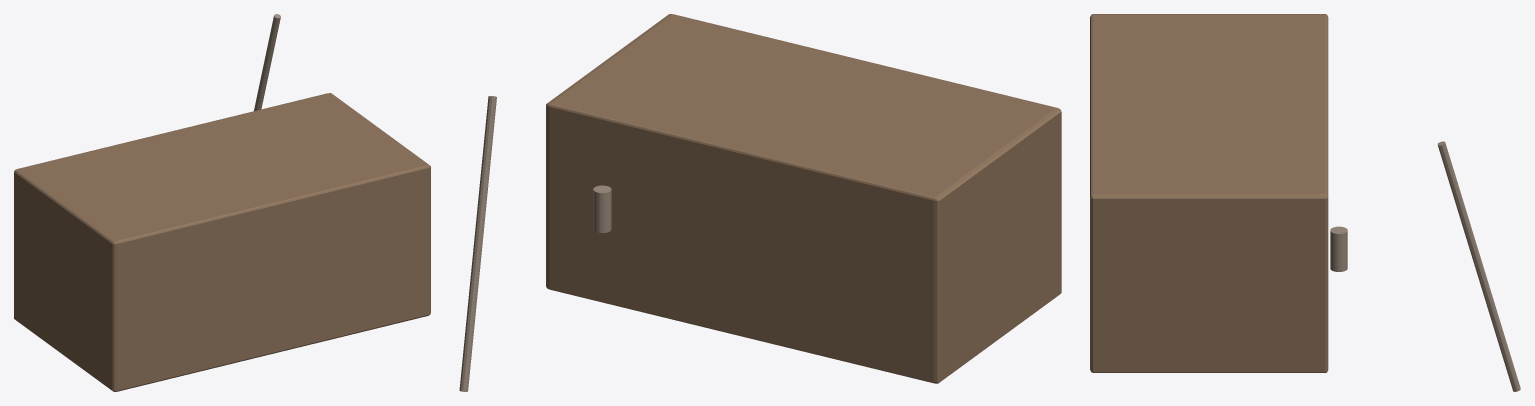
File: dz_blender_vintage_radio_console.glb
3 views of the same model, side by side, from view 1: azimuth 30°, elevation 25°; view 2: azimuth 150°, elevation 25°; view 3: azimuth 270°, elevation 25° (orthographic). The views are drawn at different scales.
Visible parts, largest first — view 1: vintage radio case, bent antenna; view 2: vintage radio case, bent antenna, antenna base; view 3: vintage radio case, bent antenna, antenna base.
Part boxes in pixels (x1,y1,x2,y2): vintage radio case: (14, 93, 430, 391); bent antenna: (254, 14, 280, 110); vintage radio case: (546, 14, 1061, 383); bent antenna: (459, 96, 496, 391); antenna base: (593, 185, 611, 232); vintage radio case: (1090, 14, 1328, 372); bent antenna: (1437, 141, 1520, 391); antenna base: (1330, 226, 1347, 271).
Size of the model in its own units: 1.24 by 0.7967 by 1.23.
